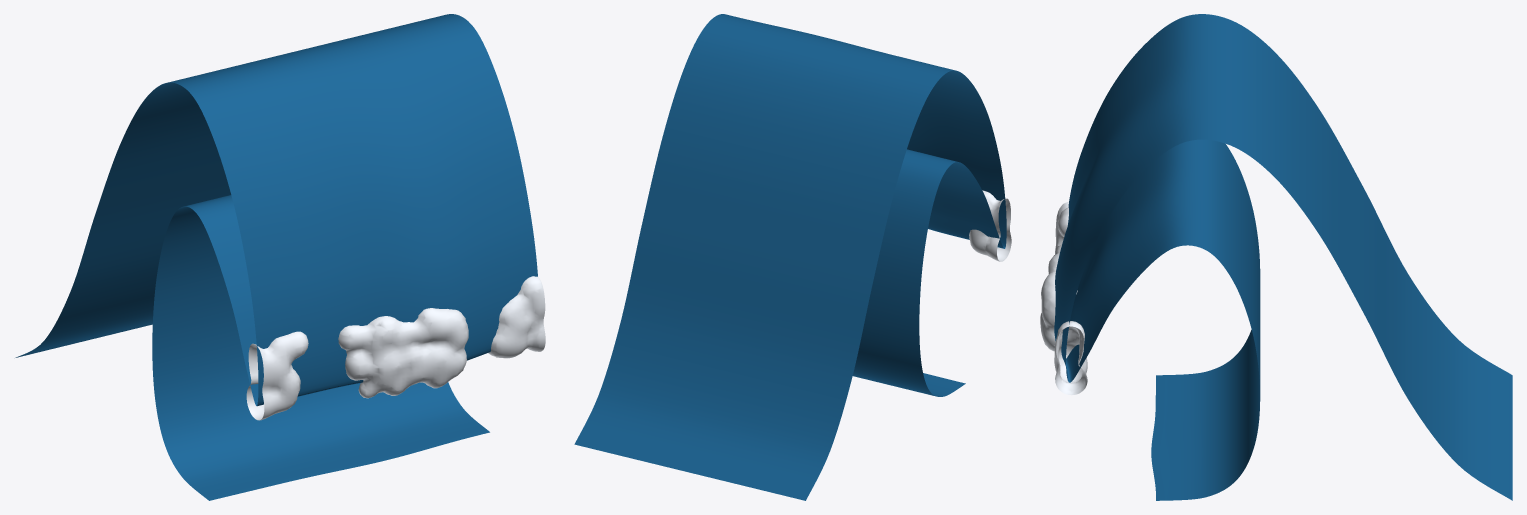
Rendered from wave_tile_1.obj.
3 views of the same model, side by side, from view 1: azimuth 30°, elevation 25°; view 2: azimuth 150°, elevation 25°; view 3: azimuth 270°, elevation 25° (orthographic). The views are drawn at different scales.
Visible parts, largest first — view 1: wave_body_1, wave_foam_1; view 2: wave_body_1, wave_foam_1; view 3: wave_body_1, wave_foam_1.
Part boxes in pixels (box(x1,y1,x2,y2)): wave_body_1: box(15, 14, 537, 500); wave_foam_1: box(246, 276, 545, 420); wave_body_1: box(574, 14, 1006, 500); wave_foam_1: box(969, 190, 1011, 261); wave_body_1: box(1054, 14, 1512, 500); wave_foam_1: box(1040, 202, 1087, 395).
Size of the model in its own units: 3 by 4.03 by 4.77.
